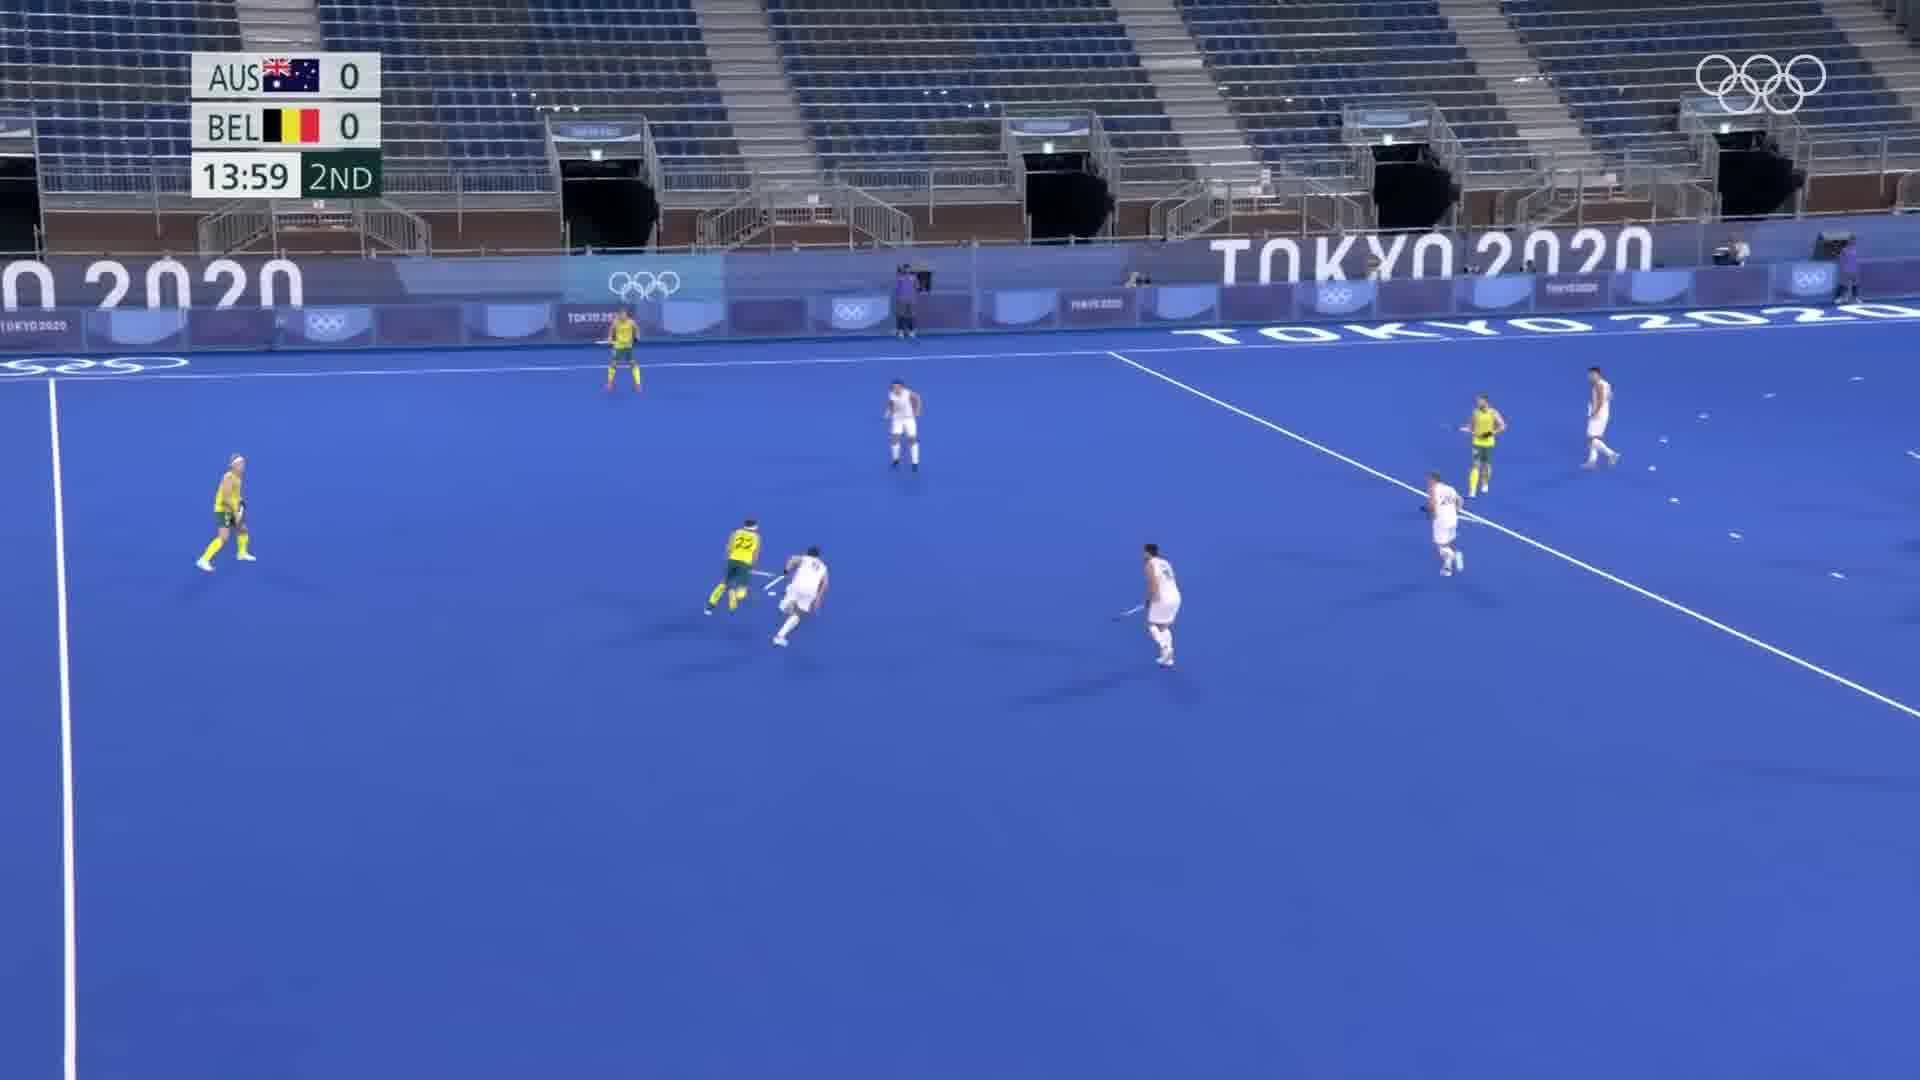ball: (764, 587, 779, 604)
